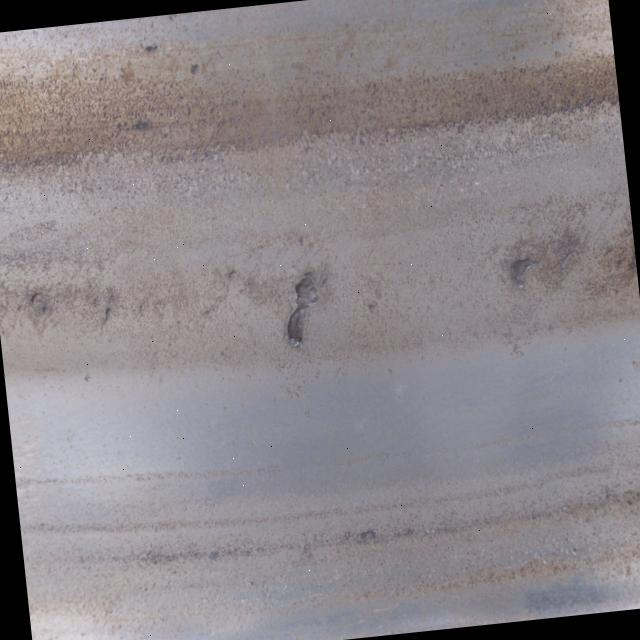Blue hole: (29, 289, 44, 310)
Peeling: (282, 271, 327, 350), (508, 253, 545, 290)
